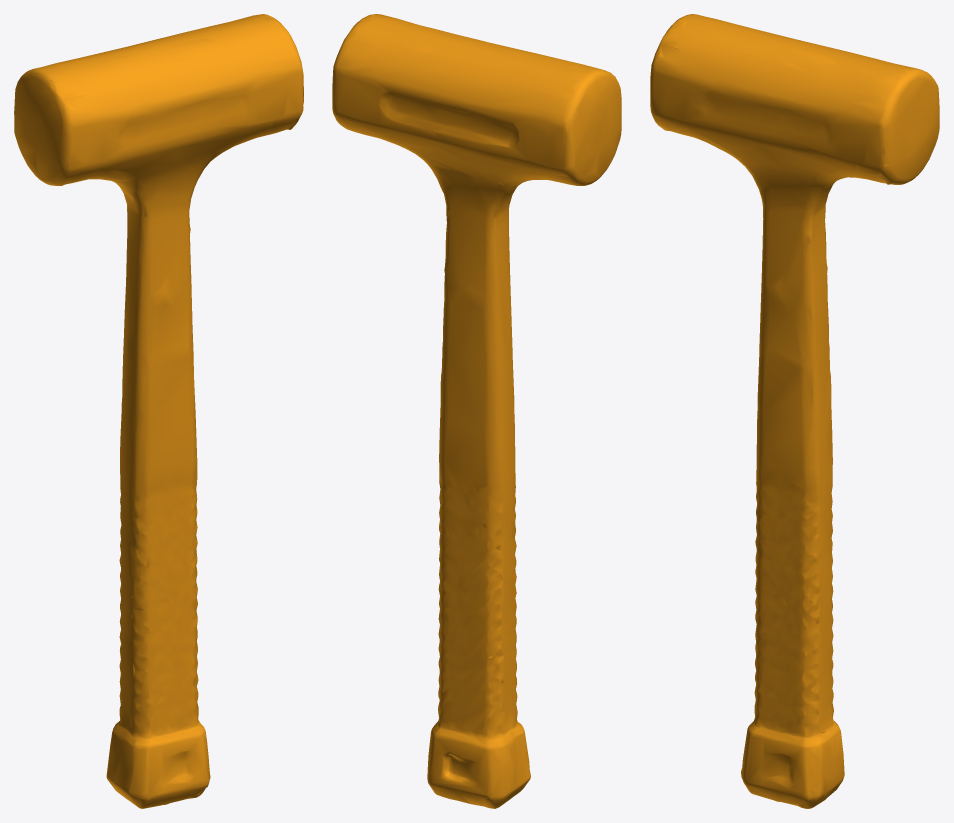
Rendered from dead_blow_hammer.dae.
3 renders of one model, left to right at view 1: azimuth 30°, elevation 25°; view 2: azimuth 150°, elevation 25°; view 3: azimuth 330°, elevation 25°, orthographic.
Parts seen in each view (by area): view 1: node_g0_amber; view 2: node_g0_amber; view 3: node_g0_amber.
Part boxes in pixels (x1,y1,x2,y2): node_g0_amber: [14, 14, 303, 808]; node_g0_amber: [332, 14, 621, 808]; node_g0_amber: [650, 14, 939, 808].
Size of the model in its own units: 0.1038 by 0.0408 by 0.3023.
